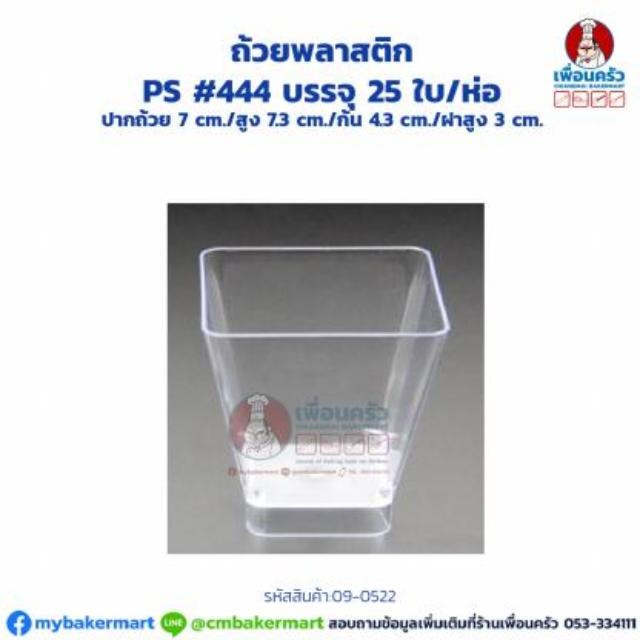plastic_box: (200, 246, 450, 540)
